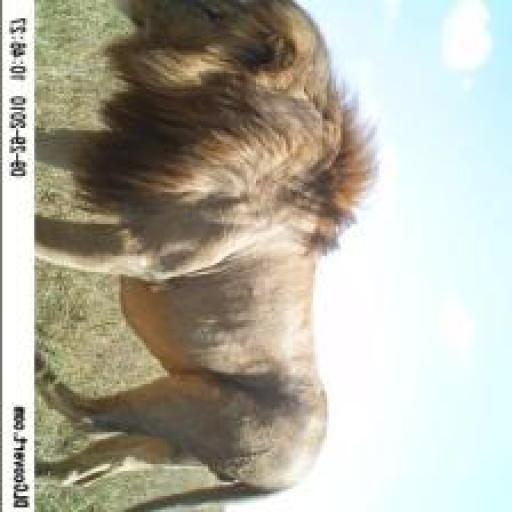lion: (30, 2, 399, 508)
